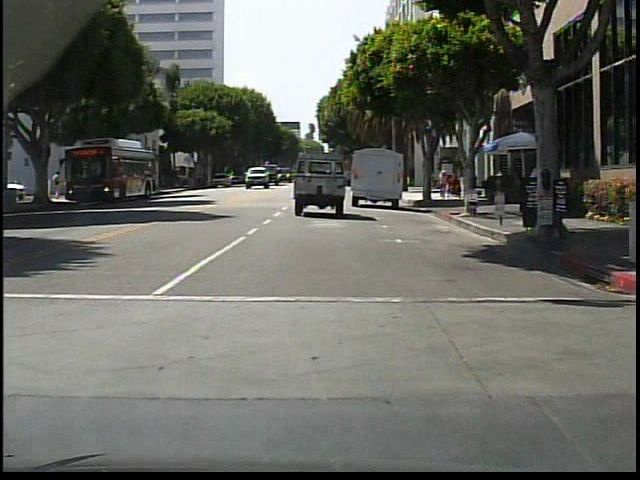person: (437, 170, 448, 200), (51, 170, 62, 198), (428, 167, 437, 201)
